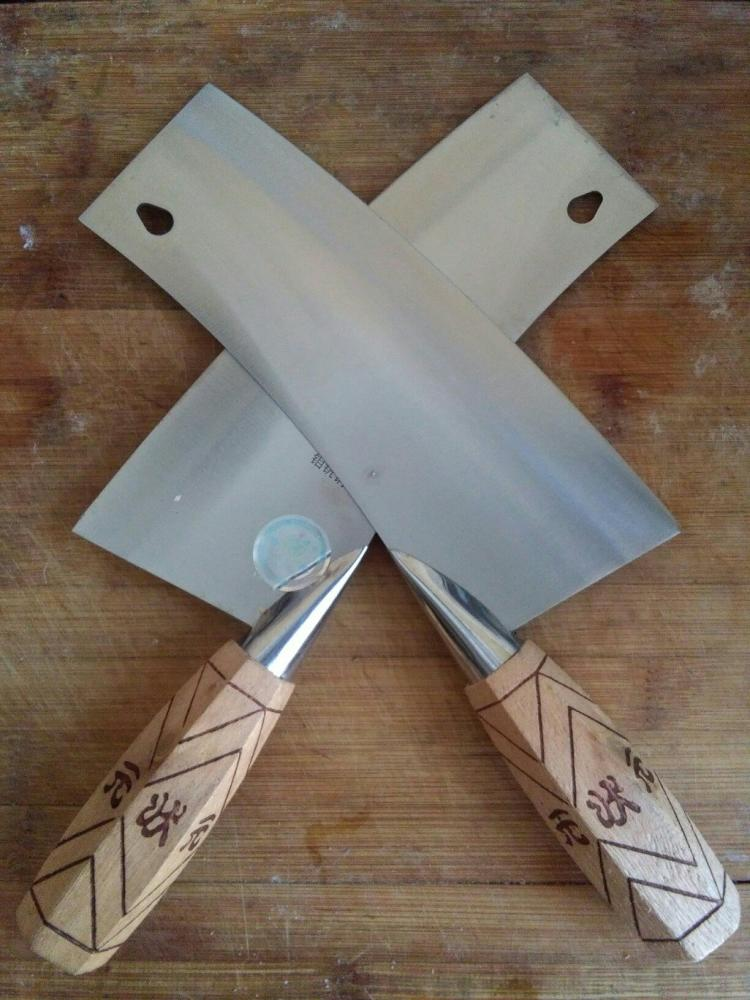knief: (103, 96, 722, 947)
